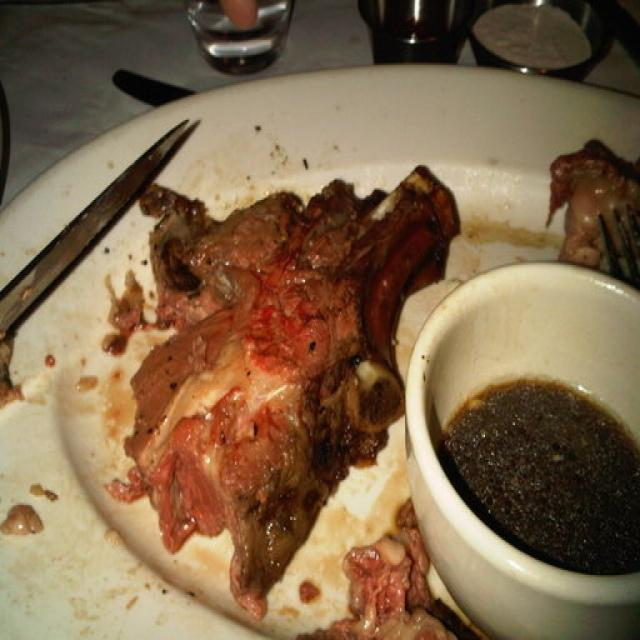rib: (140, 158, 401, 554)
